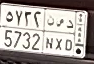2: (31, 10, 42, 51)
3: (22, 10, 32, 50)
5: (4, 10, 14, 48)
7: (13, 9, 24, 49)
D: (64, 18, 74, 52)
N: (45, 14, 55, 50)
X: (55, 17, 65, 51)
